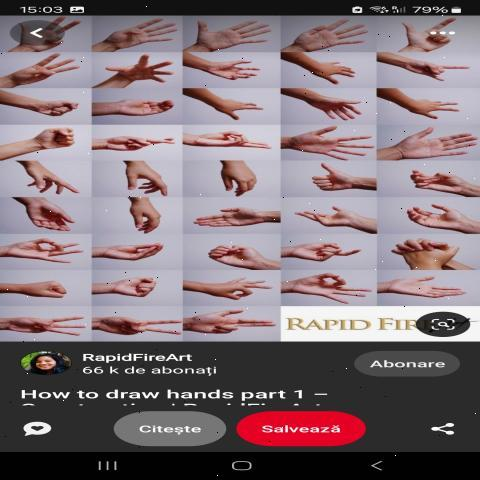Hands: (283, 13, 377, 54), (286, 124, 382, 164), (377, 121, 480, 158), (380, 267, 478, 305), (95, 13, 183, 54), (189, 18, 283, 55), (9, 47, 85, 89)
